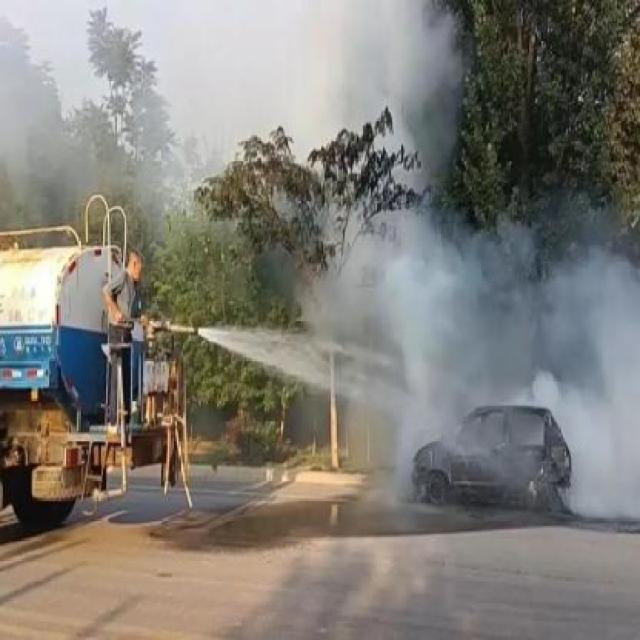Smoke: (380, 222, 542, 433), (544, 252, 638, 520)
